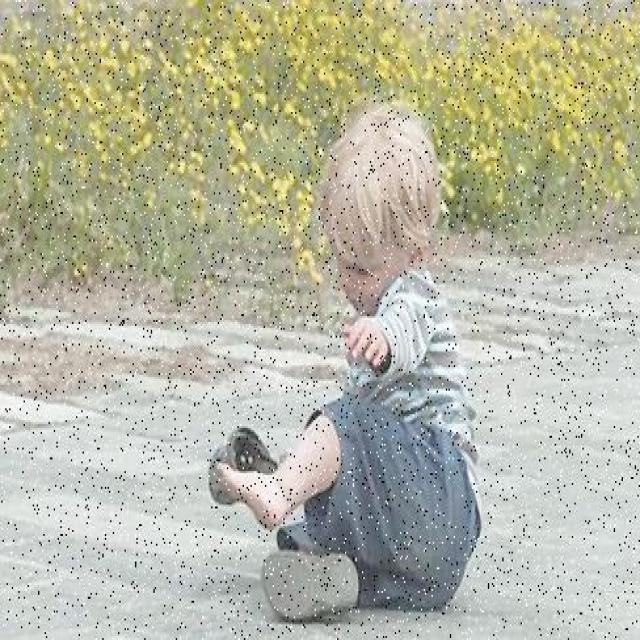fall: (214, 157, 494, 609)
